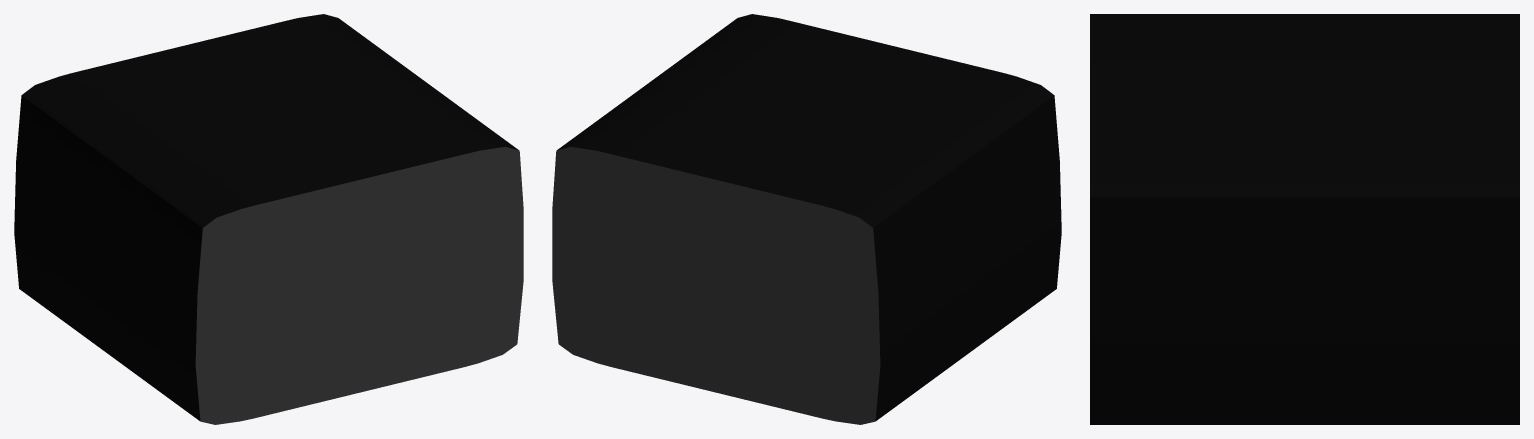
The picture shows the model from 3 angles, left to right: view 1: azimuth 30°, elevation 25°; view 2: azimuth 150°, elevation 25°; view 3: azimuth 270°, elevation 25°; orthographic projection. The views are drawn at different scales.
Visible parts, largest first — view 1: -_Zyzol_Black; view 2: -_Zyzol_Black; view 3: -_Zyzol_Black.
Part boxes in pixels (bbox=[...]): -_Zyzol_Black: bbox=[14, 14, 523, 424]; -_Zyzol_Black: bbox=[552, 14, 1061, 424]; -_Zyzol_Black: bbox=[1090, 14, 1519, 424].
Size of what is drawn, in the model's own units: 0.047 by 0.0291 by 0.045.
Materials: 2 (2 with a texture image).
